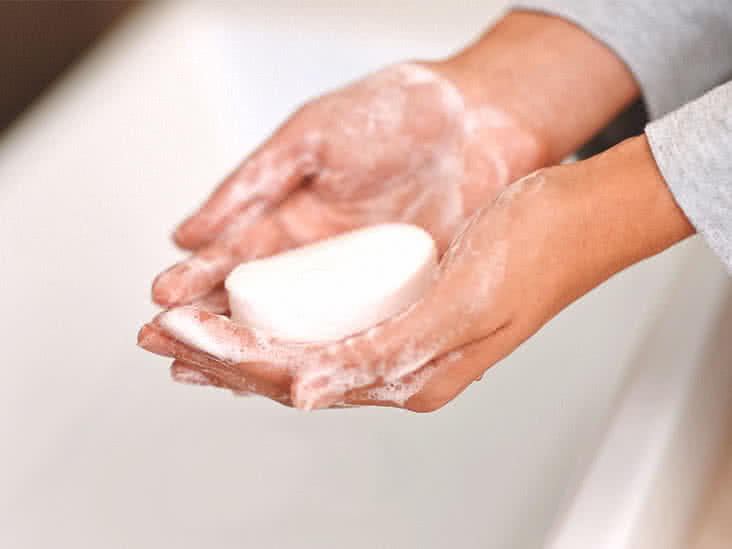finger: (161, 300, 494, 422), (119, 311, 464, 425), (289, 275, 494, 414), (154, 206, 341, 309)
